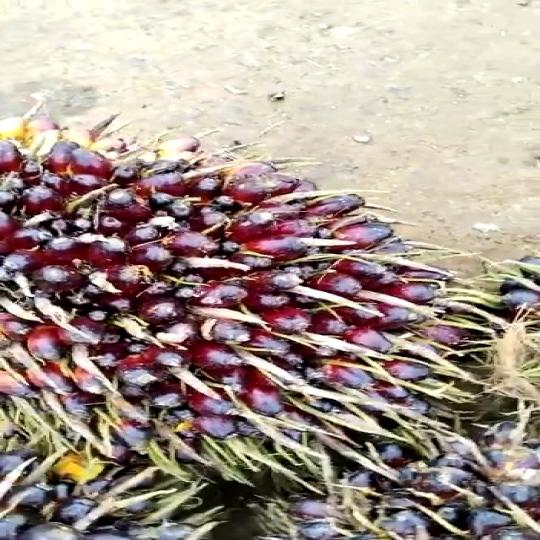mentah: (1, 114, 432, 490)
